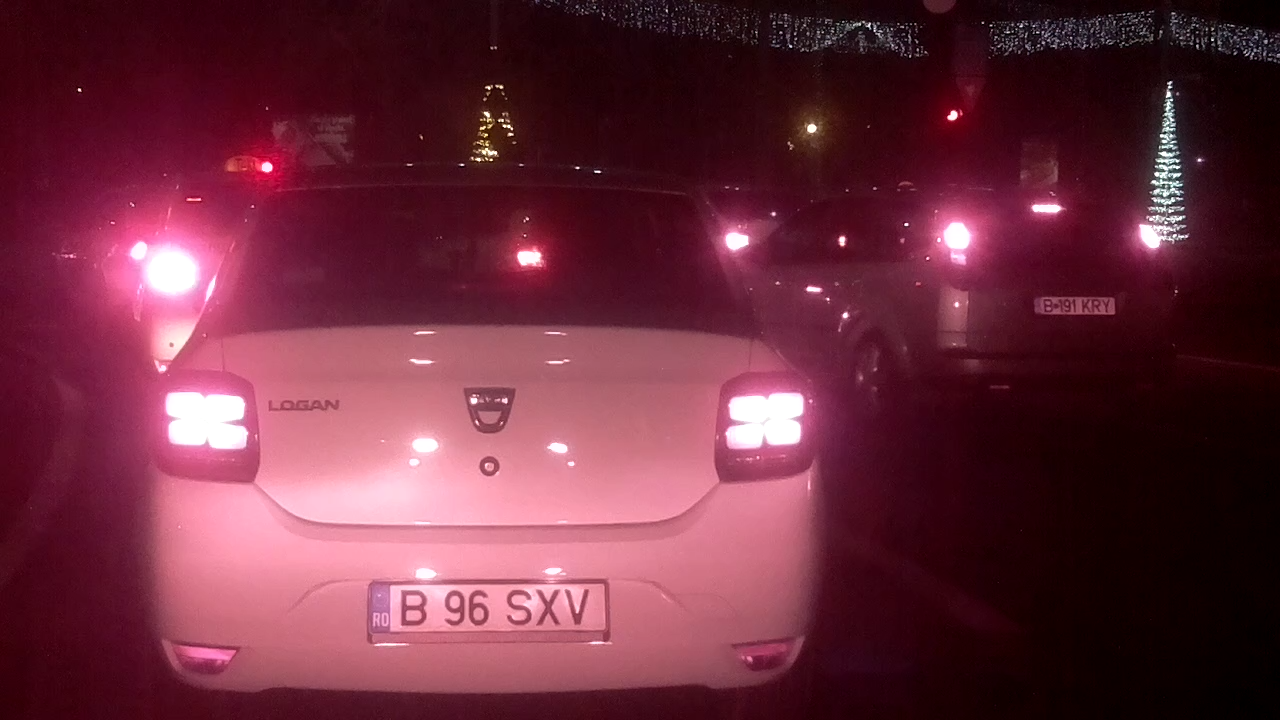license-plate: (363, 574, 615, 641), (1030, 292, 1120, 319)
